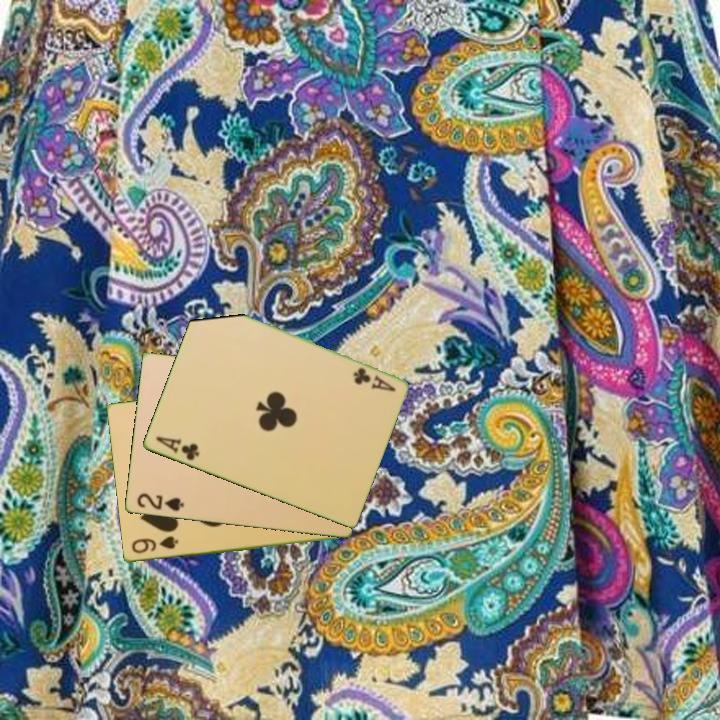2s: (133, 490, 187, 514)
9s: (128, 533, 181, 557)
Ac: (152, 433, 202, 464), (349, 364, 398, 395)
